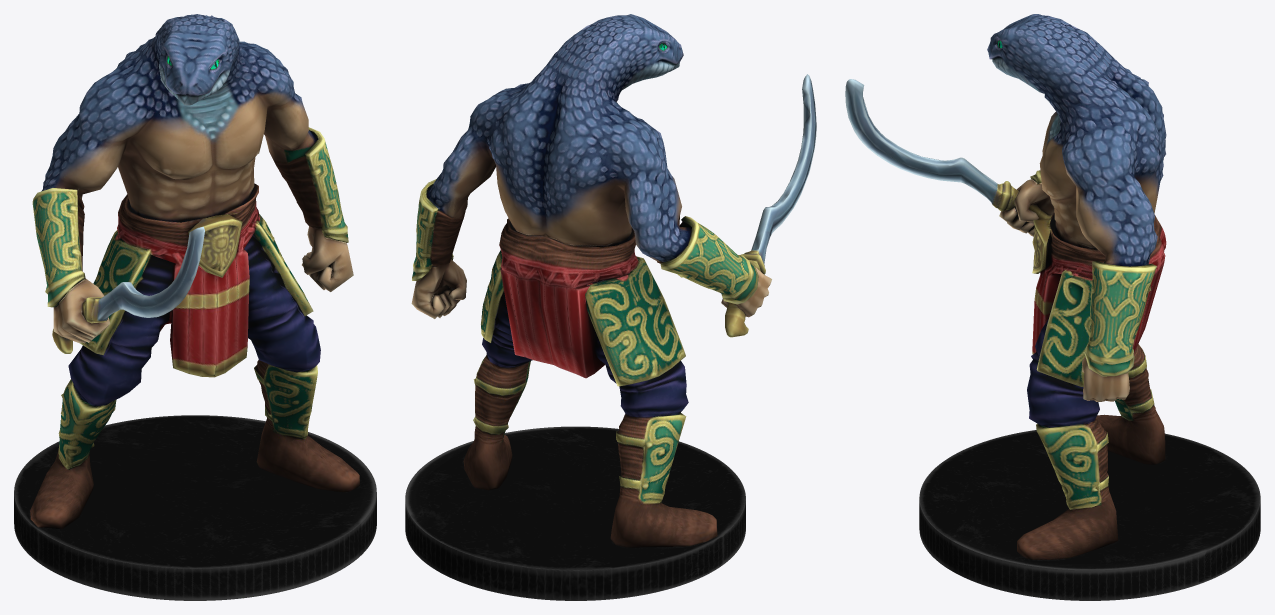
File: MZ4250 - Yuan-Ti Malison.glb
The picture shows the model from 3 angles, left to right: view 1: azimuth 30°, elevation 25°; view 2: azimuth 150°, elevation 25°; view 3: azimuth 270°, elevation 25°; orthographic projection. The views are drawn at different scales.
Visible parts, largest first — view 1: body_low.001, base_low.001, sword_low.001; view 2: body_low.001, base_low.001, sword_low.001; view 3: body_low.001, base_low.001, sword_low.001.
Part boxes in pixels (bbox=[...]): body_low.001: bbox=[30, 14, 359, 529]; base_low.001: bbox=[14, 415, 376, 600]; sword_low.001: bbox=[52, 226, 204, 353]; body_low.001: bbox=[411, 14, 771, 547]; base_low.001: bbox=[405, 426, 745, 600]; sword_low.001: bbox=[725, 74, 816, 337]; body_low.001: bbox=[987, 14, 1166, 559]; base_low.001: bbox=[919, 430, 1260, 600]; sword_low.001: bbox=[845, 79, 1052, 219].
Bounding box in the file's own units: 3.85 × 5.89 × 4.48.
Materials: 1 (1 with a texture image).
